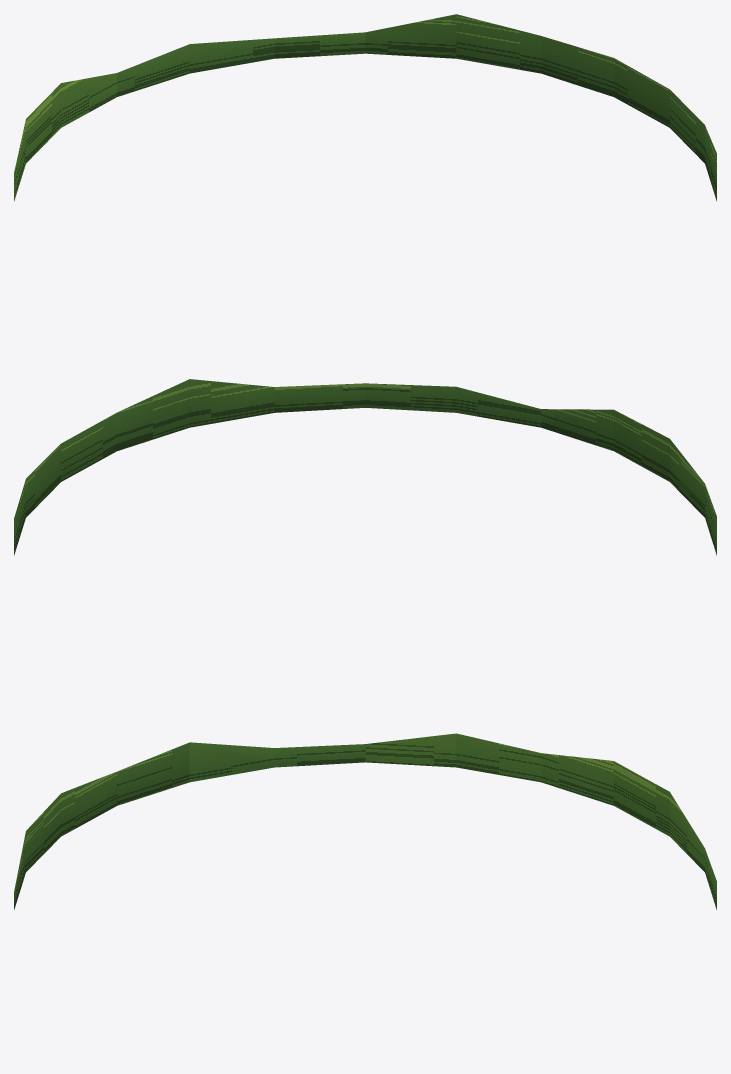
The model's file is mter.backdrop__hills.glb.
3 views of the same model, one above another, from view 1: azimuth 30°, elevation 25°; view 2: azimuth 150°, elevation 25°; view 3: azimuth 270°, elevation 25° (orthographic).
Visible parts, largest first — view 1: kit_shell_vista; view 2: kit_shell_vista; view 3: kit_shell_vista.
Part boxes in pixels (bbox=[...]): kit_shell_vista: bbox=[14, 14, 716, 201]; kit_shell_vista: bbox=[14, 379, 716, 555]; kit_shell_vista: bbox=[14, 733, 716, 909].
Bounding box in the file's own units: 520 × 39.72 × 520.
Materials: 1 (1 with a texture image).
